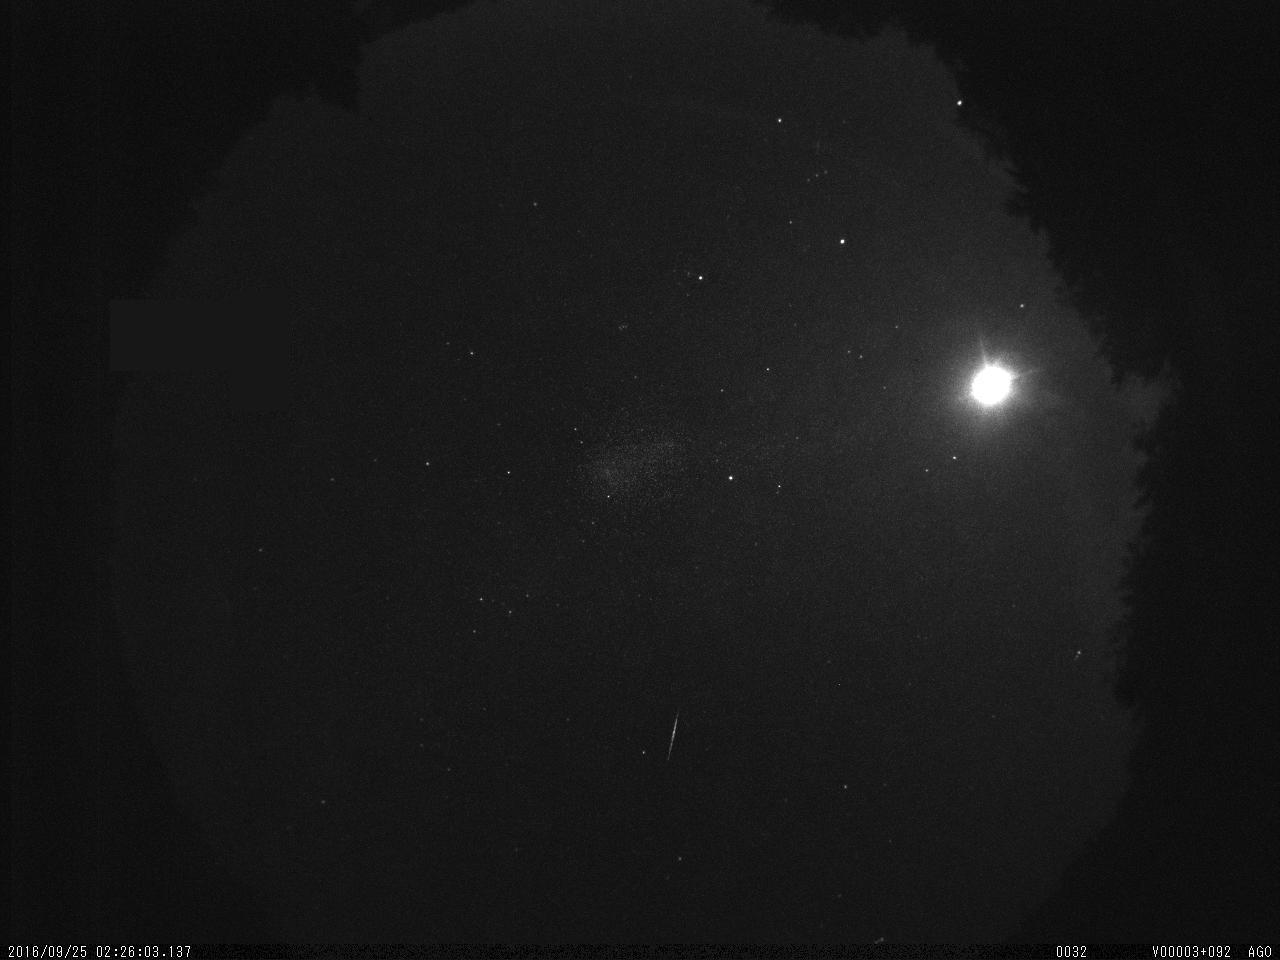meteor: (649, 701, 710, 772)
